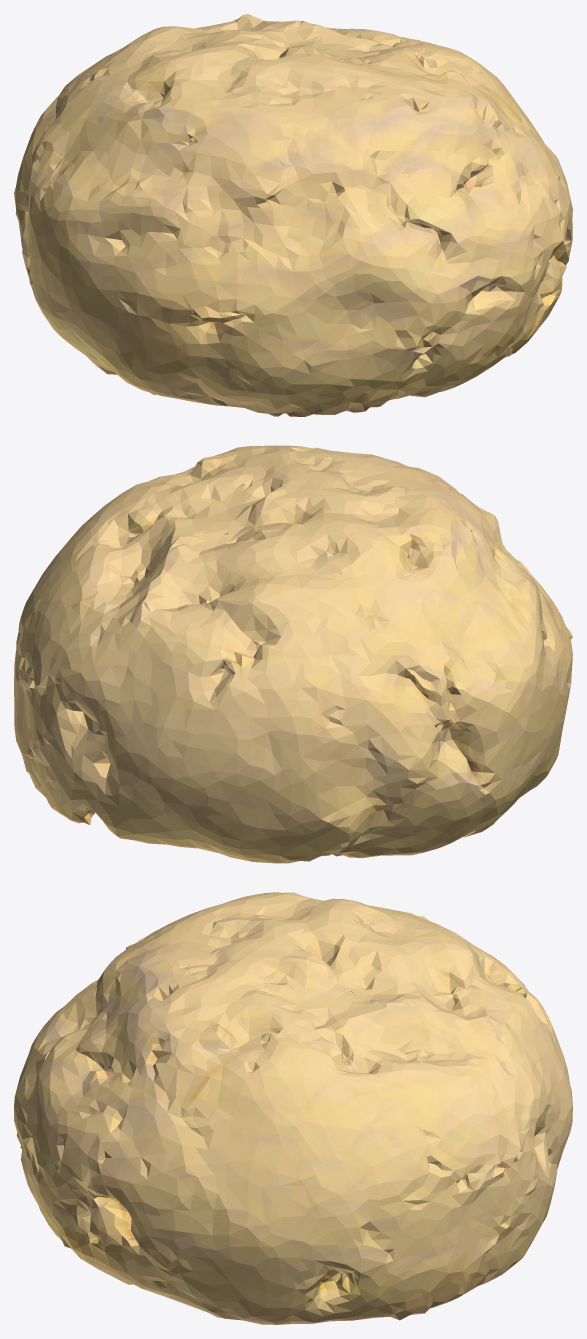
Rendered from pizza_dough_unprepar_0422142617_texture.fbx.
3 views of the same model, one above another, from view 1: azimuth 30°, elevation 25°; view 2: azimuth 150°, elevation 25°; view 3: azimuth 270°, elevation 25° (orthographic). The views are drawn at different scales.
Visible parts, largest first — view 1: temp; view 2: temp; view 3: temp.
Boxes of the visible parts, left/top/right/bottom form: temp: left=14, top=14, right=572, bottom=416; temp: left=14, top=445, right=572, bottom=863; temp: left=14, top=892, right=572, bottom=1324.
Bounding box in the file's own units: 200 × 111 × 200.
Materials: 1 (1 with a texture image).
